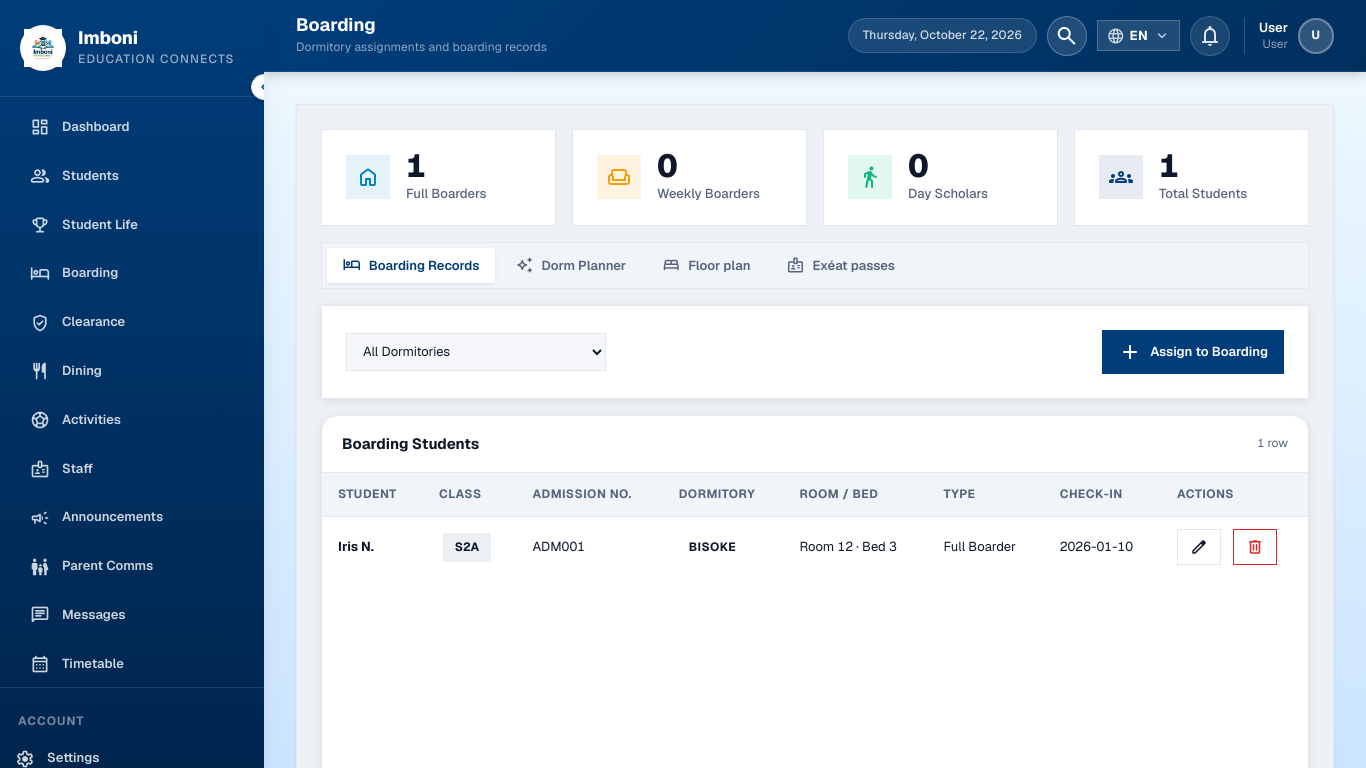
DisBoarding › deletes a boarding record after confirming
Expected: the text "Iris N." is shown, [338, 538, 374, 555]
What coordinates should you click on to do the following:
click the button named "Delete"
I would click on:
 (1255, 547)
Its box is [1233, 529, 1277, 565].
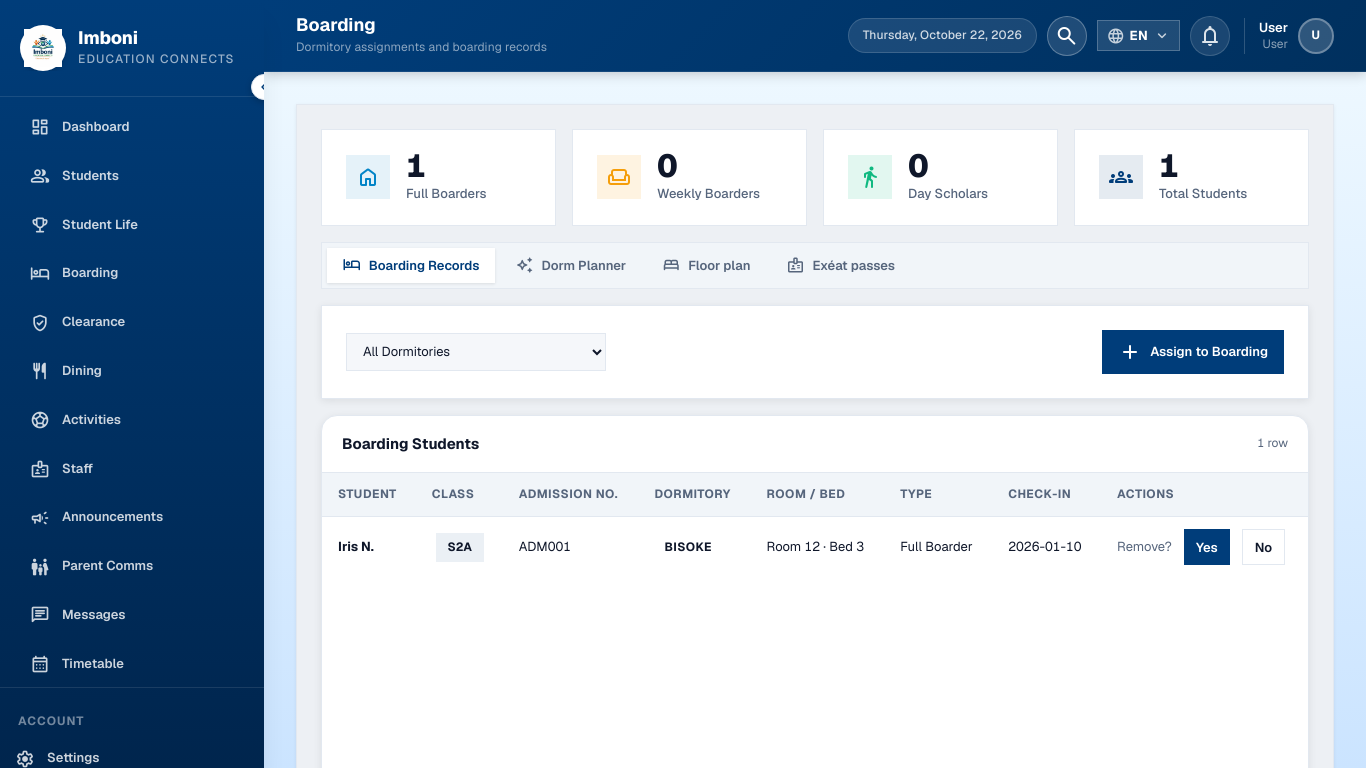
What coordinates should you click on to do the following:
click the button "Yes"
I would click on:
 (1207, 547)
Its box is [1184, 529, 1230, 565].
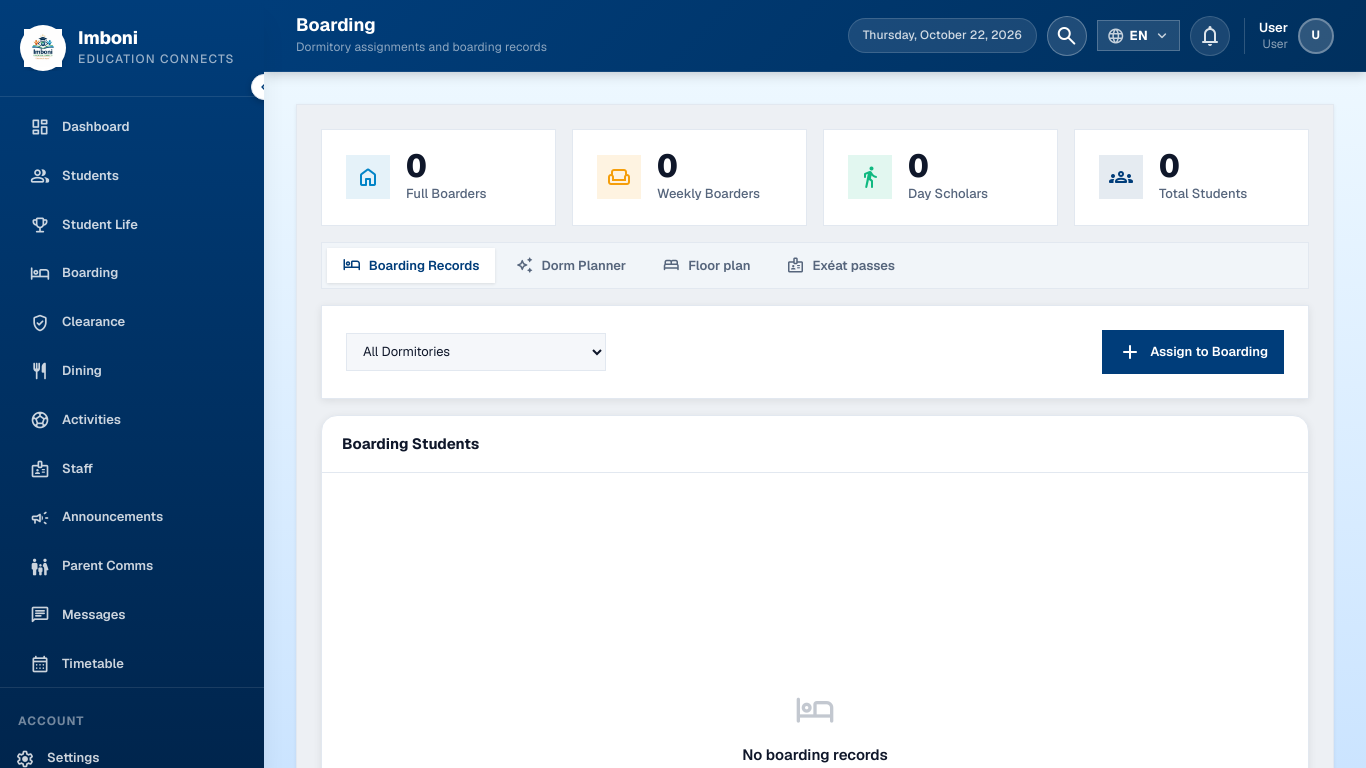
Expected: the text "Iris N." is gone
